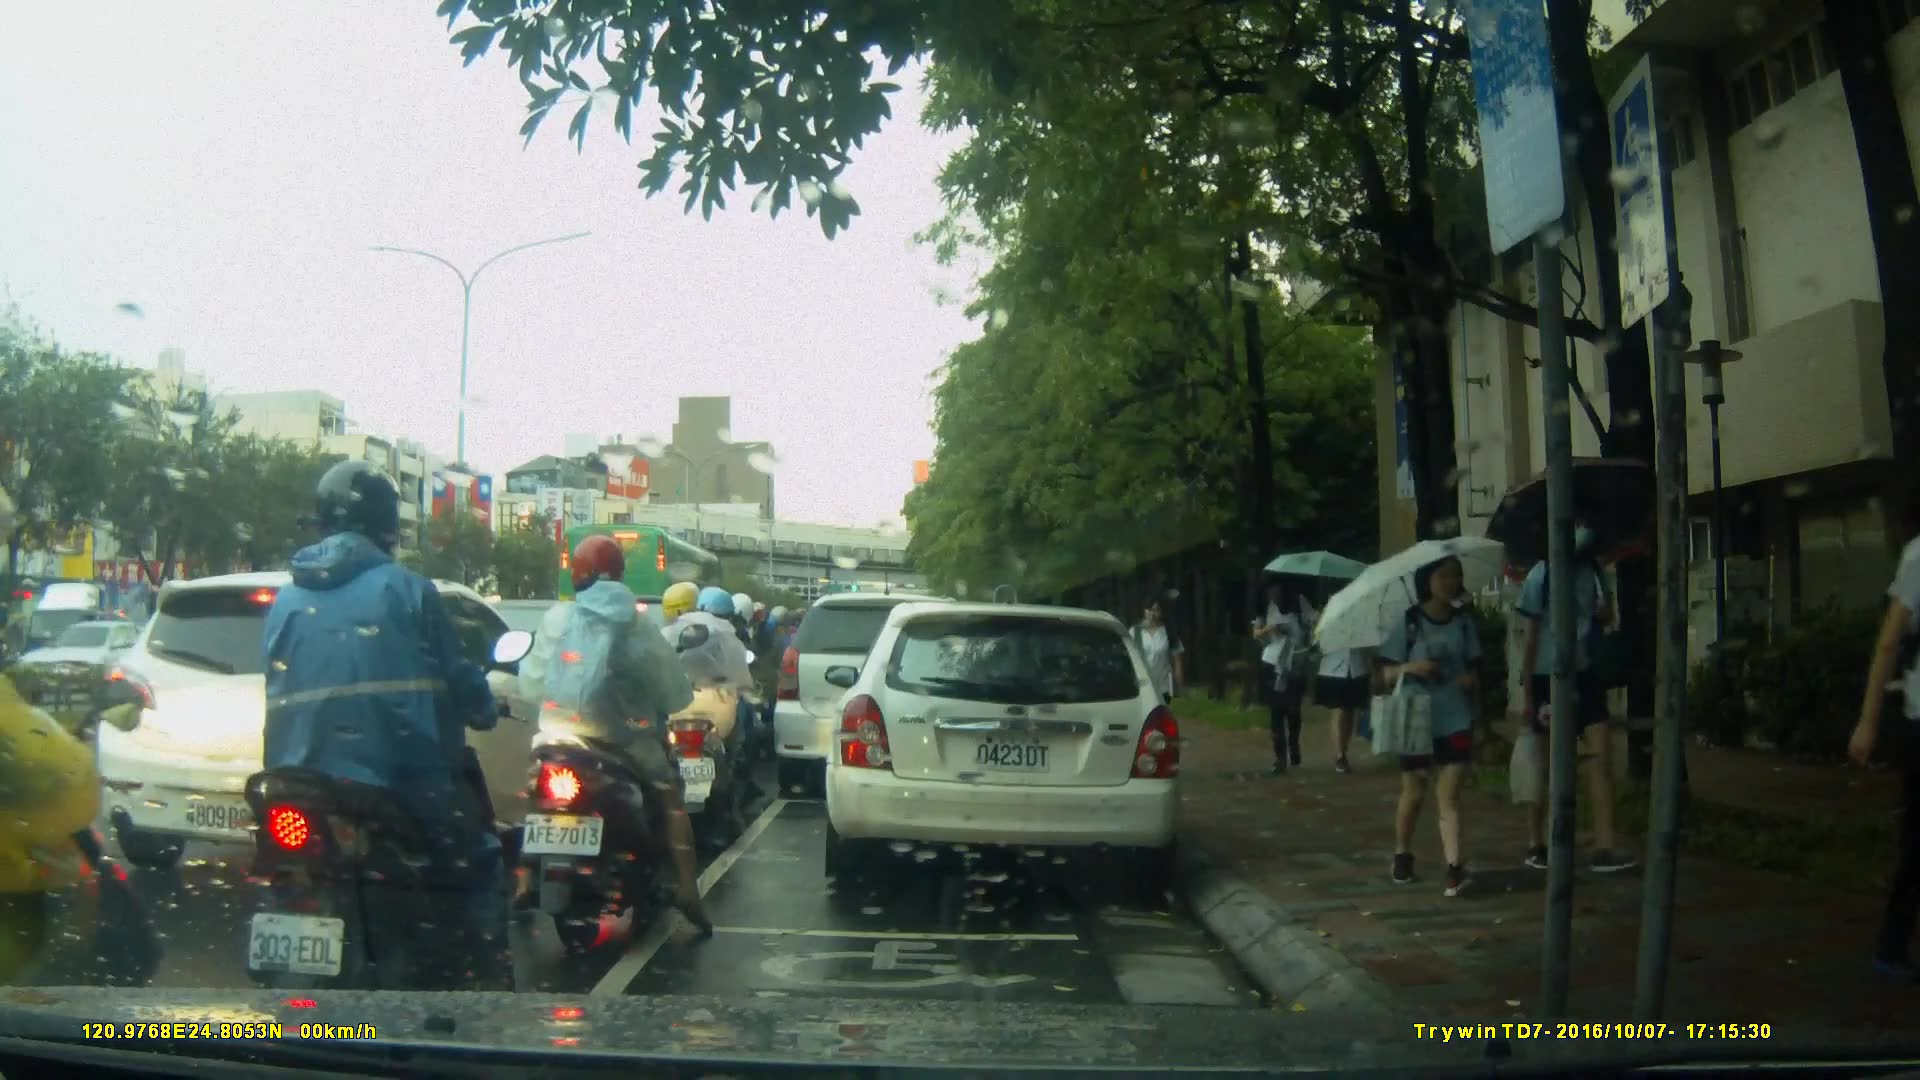pedestrian: (1512, 490, 1647, 881), (1359, 526, 1496, 911), (1845, 432, 1920, 985), (1307, 563, 1376, 778), (1254, 567, 1316, 776), (1125, 591, 1190, 771)
rider: (239, 464, 522, 1030), (517, 537, 738, 939), (632, 587, 770, 850), (674, 594, 764, 789)
vehicle: (93, 569, 617, 883), (822, 604, 1187, 883), (774, 595, 995, 802), (567, 524, 747, 659), (20, 576, 199, 697), (27, 618, 213, 715)
